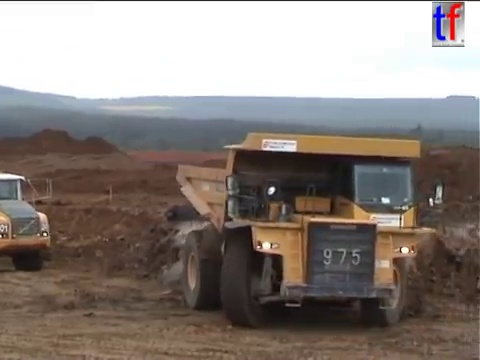truck: (173, 130, 446, 329), (1, 170, 54, 273)
